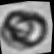correct: (0, 1, 54, 53)
